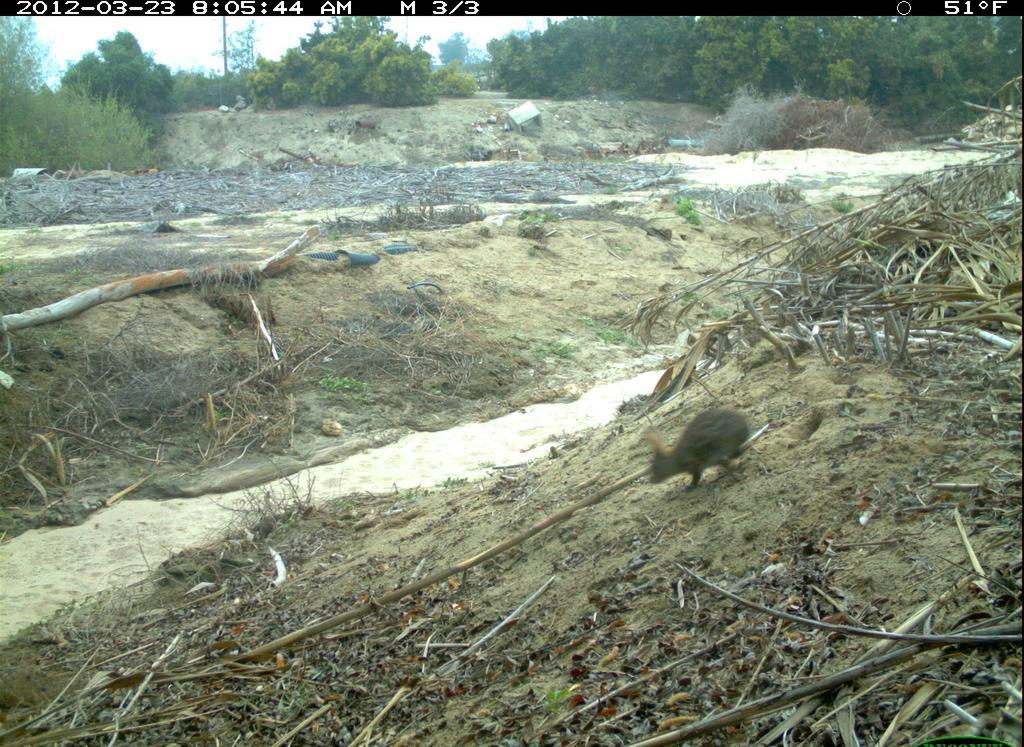rabbit: (639, 401, 757, 504)
